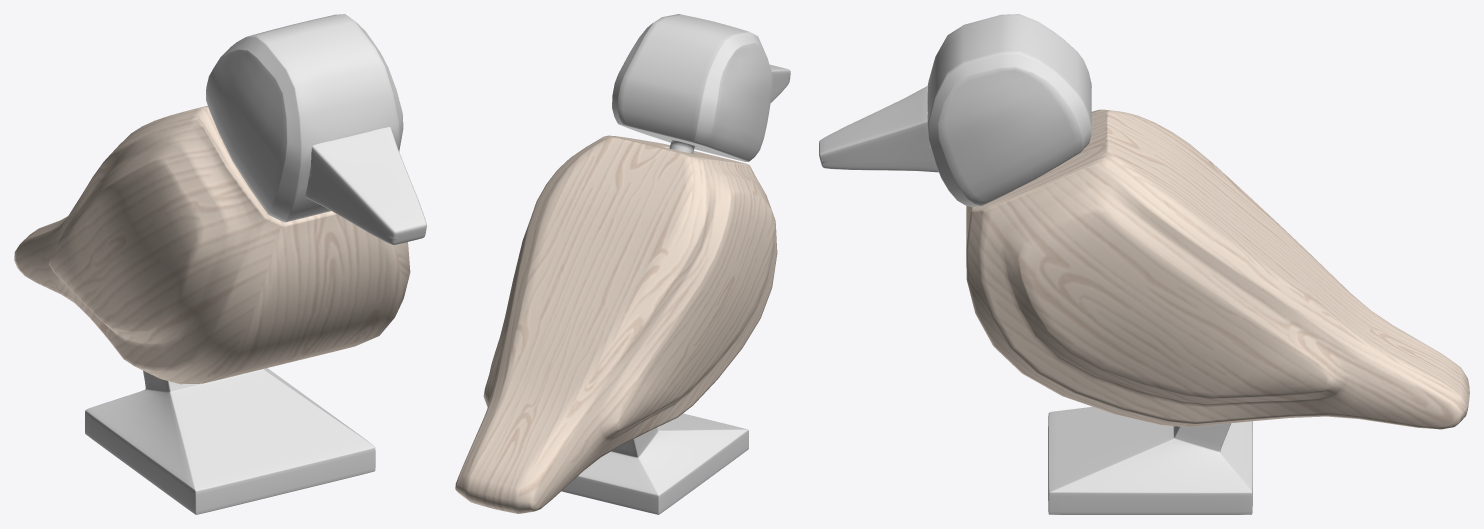
File: Bird_Final.fbx
3 renders of one model, left to right at view 1: azimuth 30°, elevation 25°; view 2: azimuth 150°, elevation 25°; view 3: azimuth 270°, elevation 25°, orthographic. The views are drawn at different scales.
Parts seen in each view (by area): view 1: Body, Legs, bird_highPoly.002, Beak_Upper, Beak_Lower; view 2: Body, bird_highPoly.002, Legs; view 3: Body, bird_highPoly.002, Legs, Beak_Upper, Beak_Lower.
Boxes of the visible parts, x1,y1,x2,y2 form: Body: (14,105,410,384); Legs: (85,368,375,514); bird_highPoly.002: (206,14,403,222); Beak_Upper: (309,127,426,238); Beak_Lower: (305,174,426,244); Body: (455,135,777,513); bird_highPoly.002: (612,14,772,161); Legs: (561,413,748,514); Body: (966,109,1469,429); bird_highPoly.002: (927,14,1091,207); Legs: (1048,407,1252,514); Beak_Upper: (819,86,930,161); Beak_Lower: (820,147,938,172).
Bounding box in the file's own units: 226 × 448 × 597.
